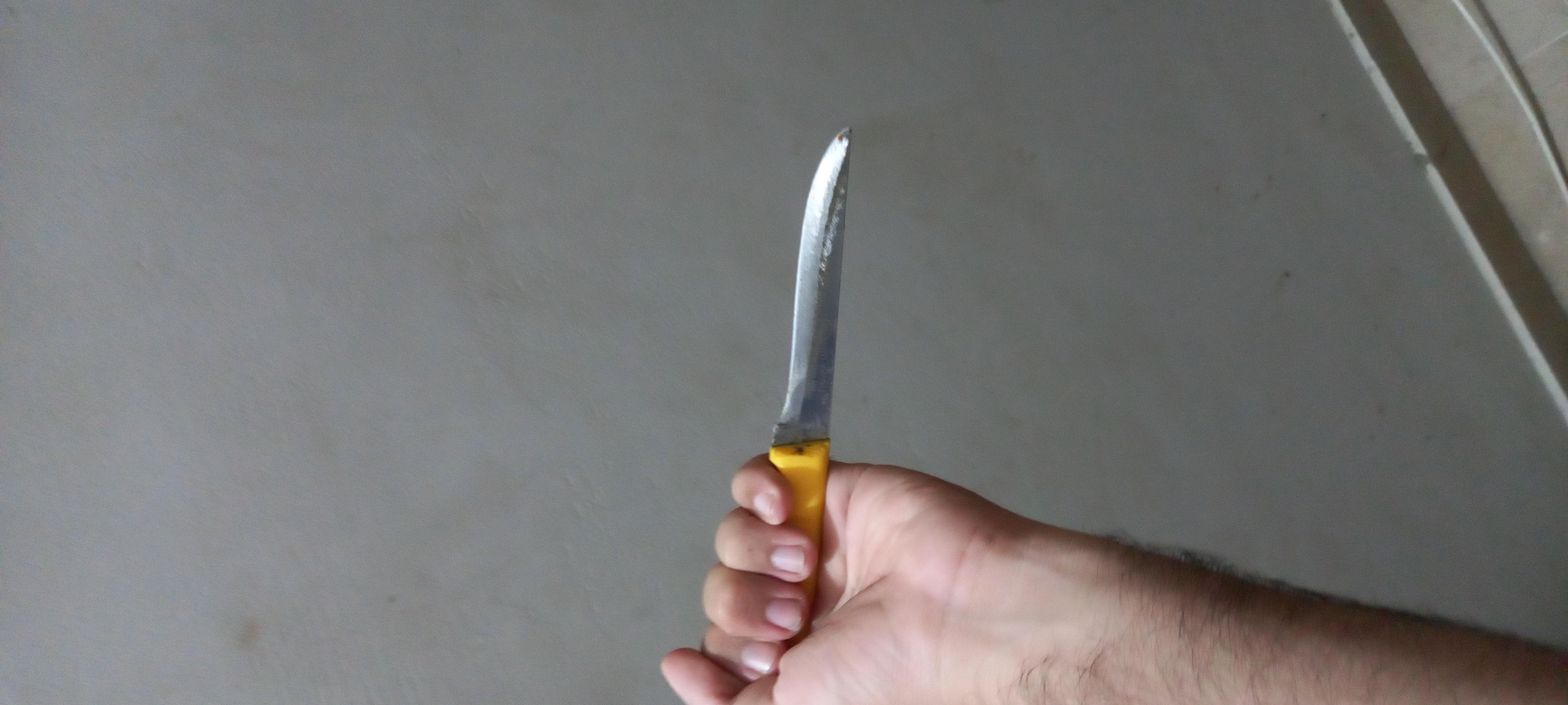knives: (16, 277, 1294, 410)
